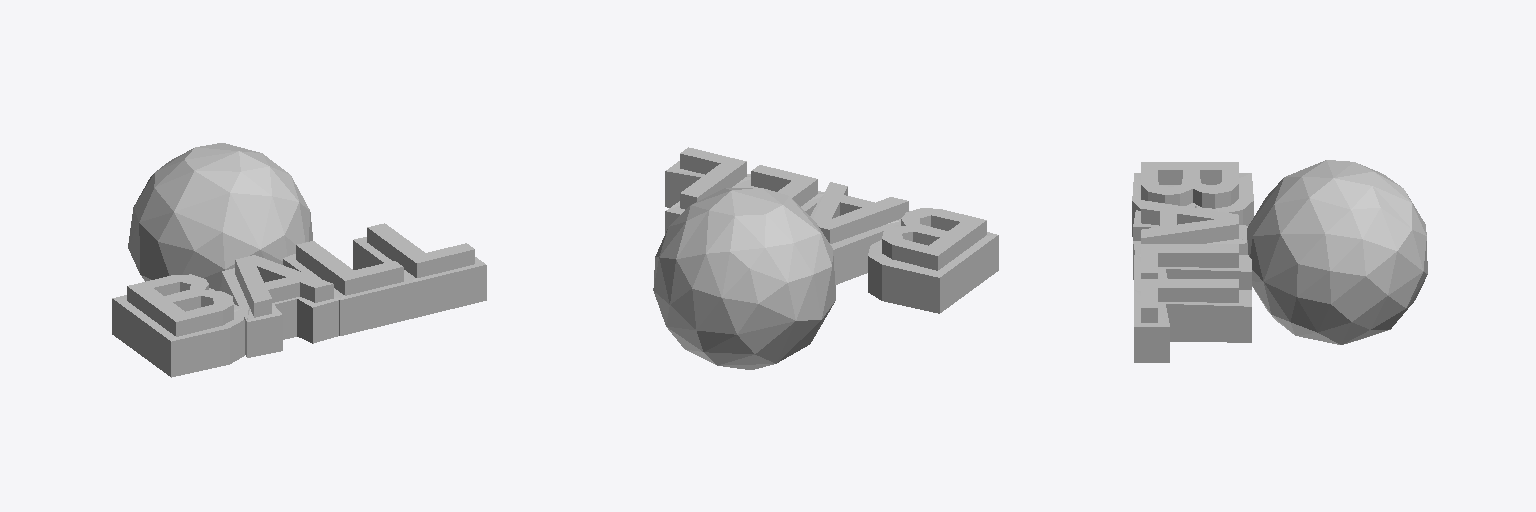
Rendered from title.obj.
The picture shows the model from 3 angles: view 1: azimuth 30°, elevation 25°; view 2: azimuth 150°, elevation 25°; view 3: azimuth 270°, elevation 25°; orthographic projection.
Visible parts, largest first — view 1: Text.001_Mesh.000; view 2: Text.001_Mesh.000; view 3: Text.001_Mesh.000.
Boxes of the visible parts, <box> form: Text.001_Mesh.000: <box>112,143,486,377</box>; Text.001_Mesh.000: <box>653,147,998,369</box>; Text.001_Mesh.000: <box>1132,160,1427,362</box>.
Size of the model in its own units: 1.76 by 0.8812 by 1.43.